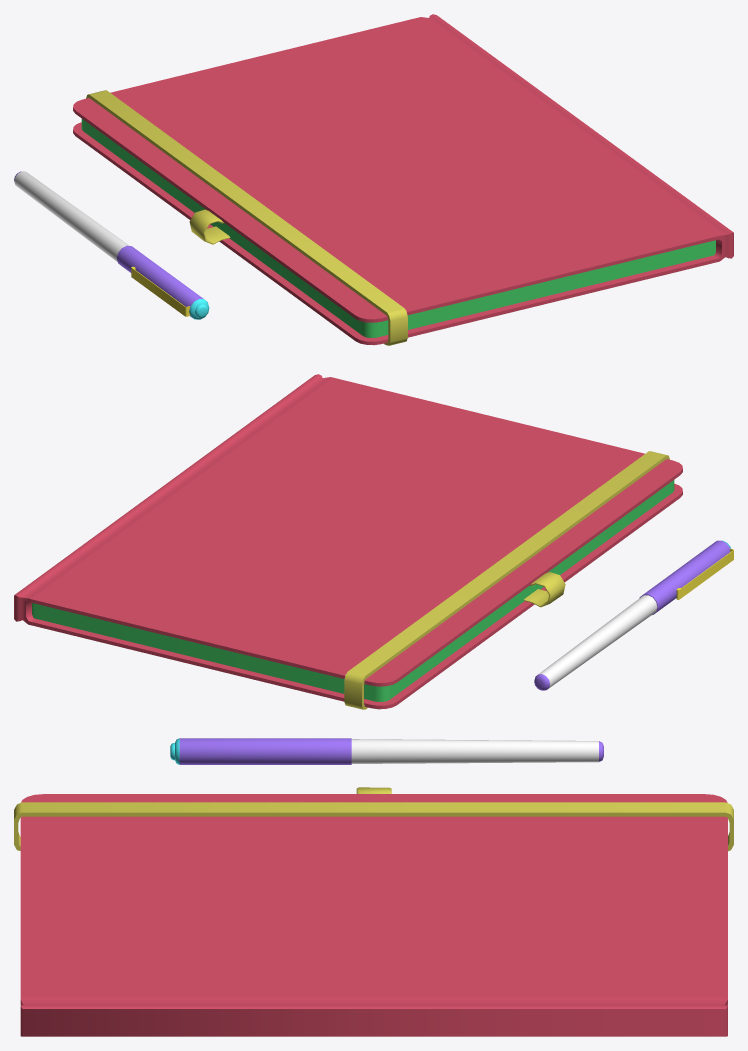
3 renders of one model, top to bottom at view 1: azimuth 30°, elevation 25°; view 2: azimuth 150°, elevation 25°; view 3: azimuth 270°, elevation 25°, orthographic. The views are drawn at different scales.
Parts seen in each view (by area): view 1: notebook, penna; view 2: notebook, penna; view 3: notebook, penna.
Part boxes in pixels (x1,y1,x2,y2): notebook: [73, 14, 733, 345]; penna: [14, 171, 209, 319]; notebook: [14, 374, 682, 709]; penna: [534, 540, 733, 690]; notebook: [14, 787, 733, 1036]; penna: [170, 738, 603, 764].
Size of the model in its own units: 0.1953 by 0.0131 by 0.2138.
